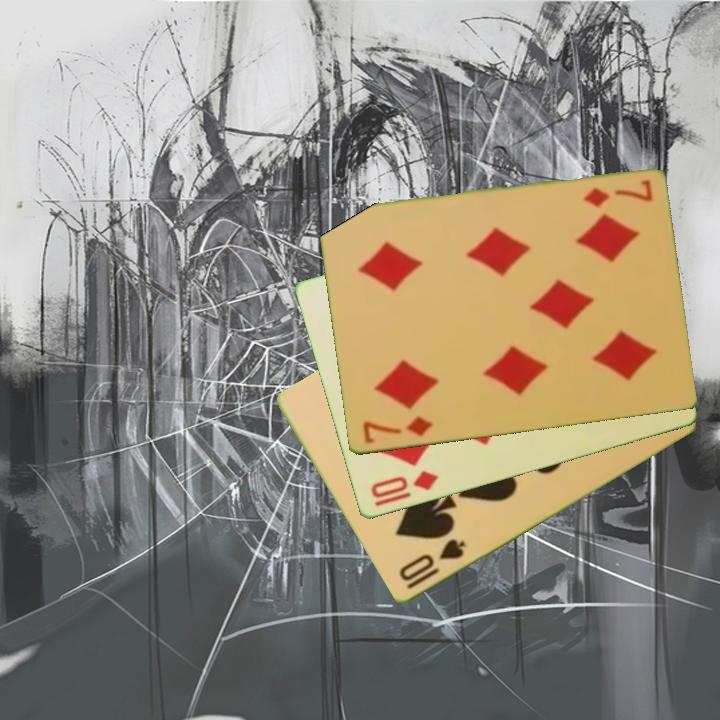10d: (367, 467, 441, 502)
10s: (395, 535, 469, 593)
7d: (579, 176, 655, 211), (359, 413, 436, 447)
